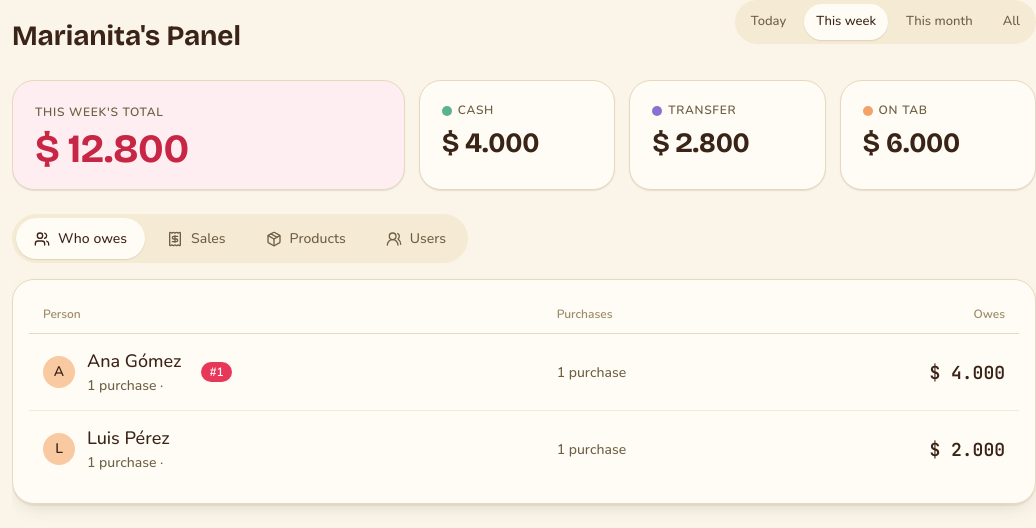
Test case: MarianitaPanel — ventas por día › muestra el total vendido agrupado por día
Click the button "Sales".
click(196, 239)  # box 149,218 -> 244,259
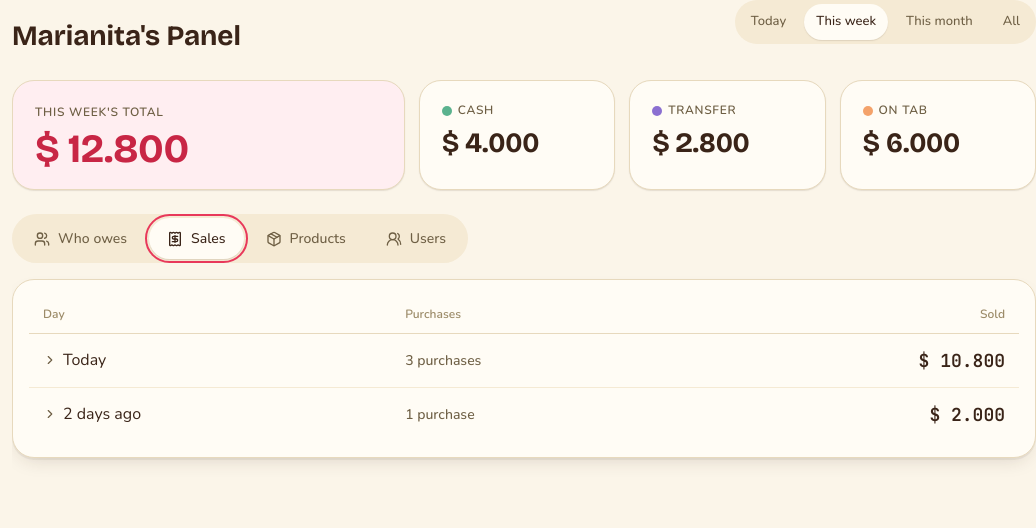
Expected: the text "$ 2.000" is shown, 690,388 -> 1019,442
Expected: the text "$ 10.800" is shown, 690,334 -> 1019,388
